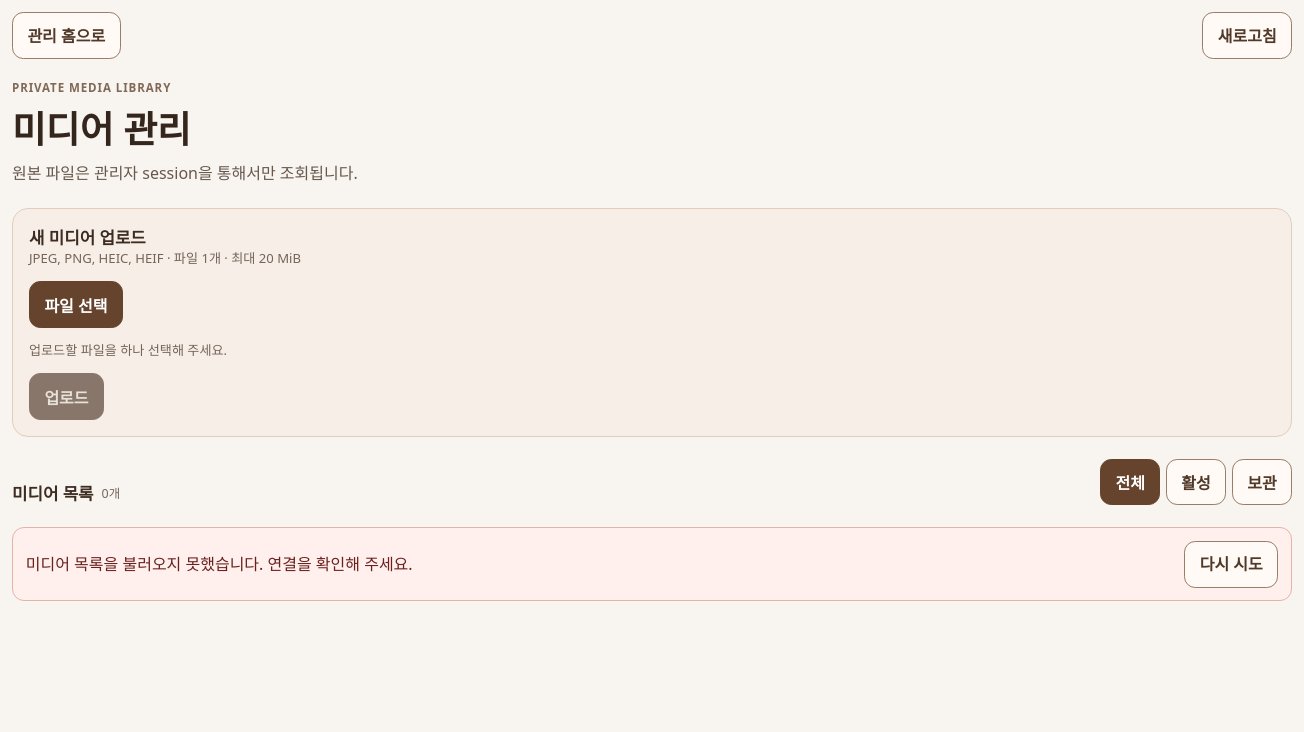
it: AdminMediaManager › empty와 initial list error를 구분하고 명시적 retry를 제공한다
The width and height of the screenshot is (1304, 732).
Expected: the message shows "미디어 목록을 불러오지 못했습니다.", [26, 553, 413, 575]
Click the button "다시 시도" at (1231, 564), box [1184, 541, 1278, 588]
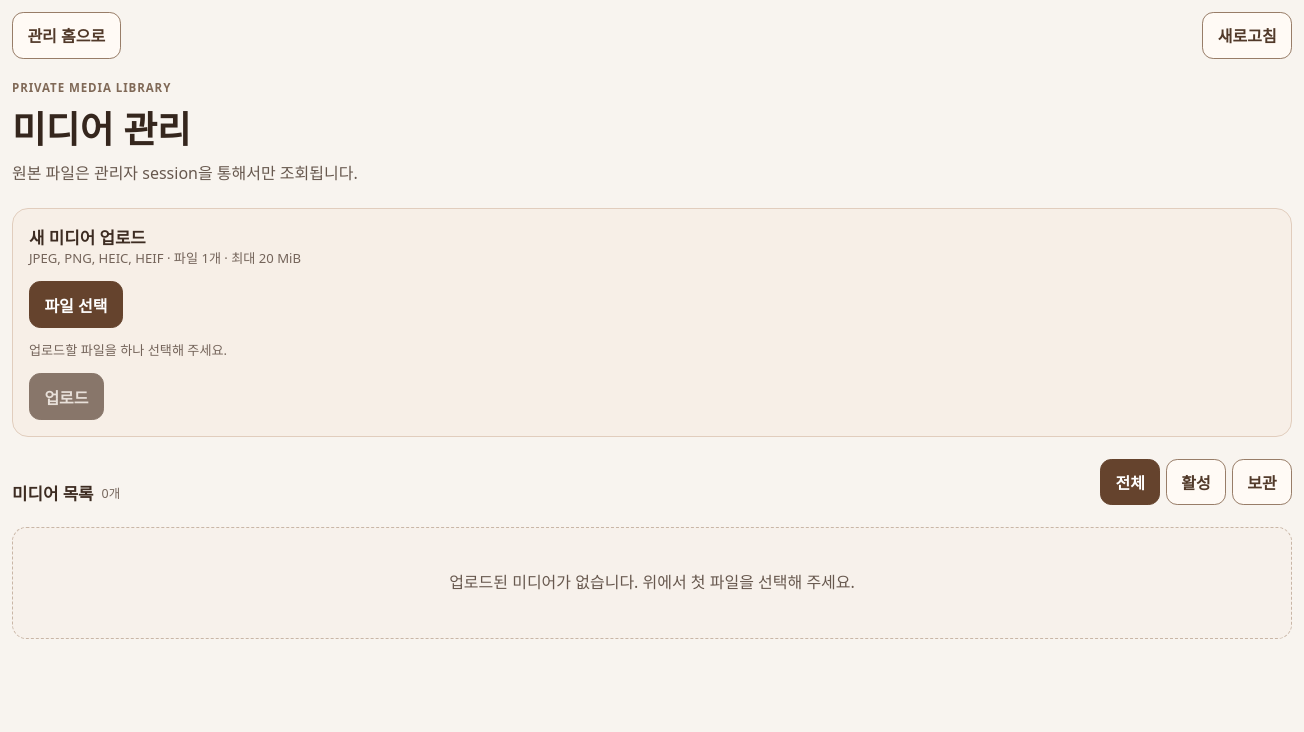
Expected: the text "업로드된 미디어가 없습니다. 위에서 첫 파일을 선택해 주세요." is shown, [12, 527, 1292, 639]
